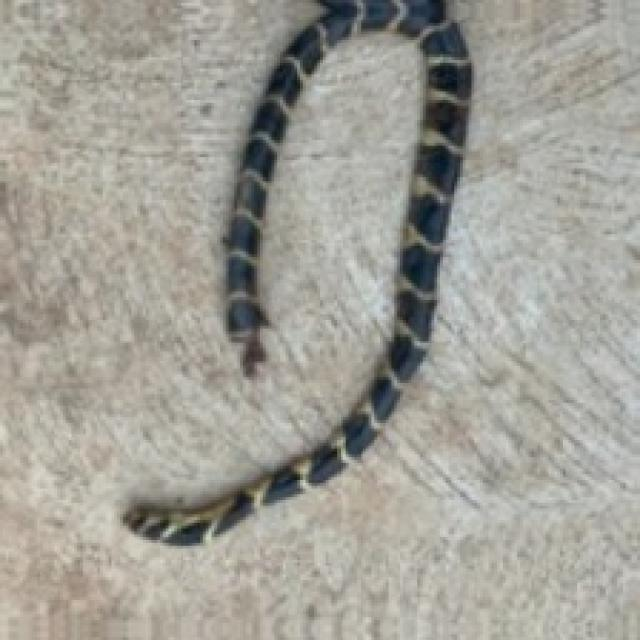king cobra: (123, 0, 469, 543)
